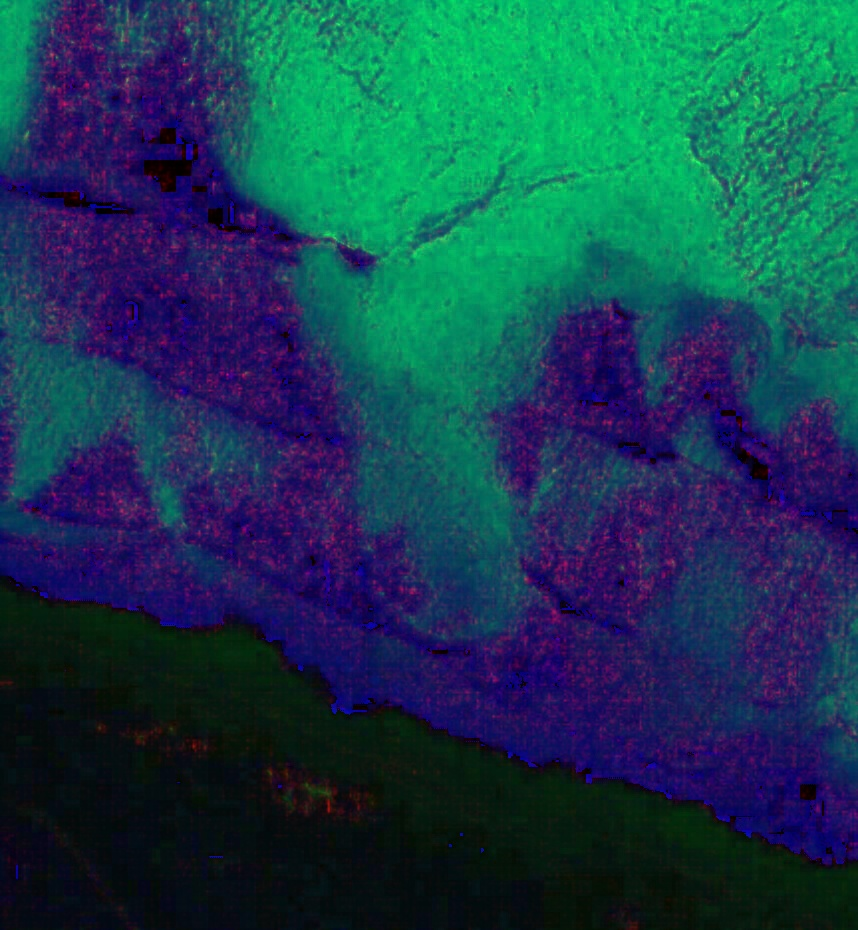rip_current: (271, 186, 549, 656)
